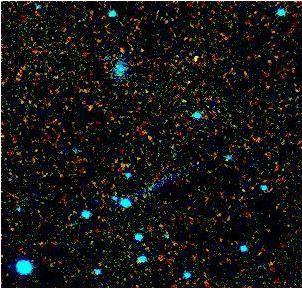star: (132, 120, 162, 150)
